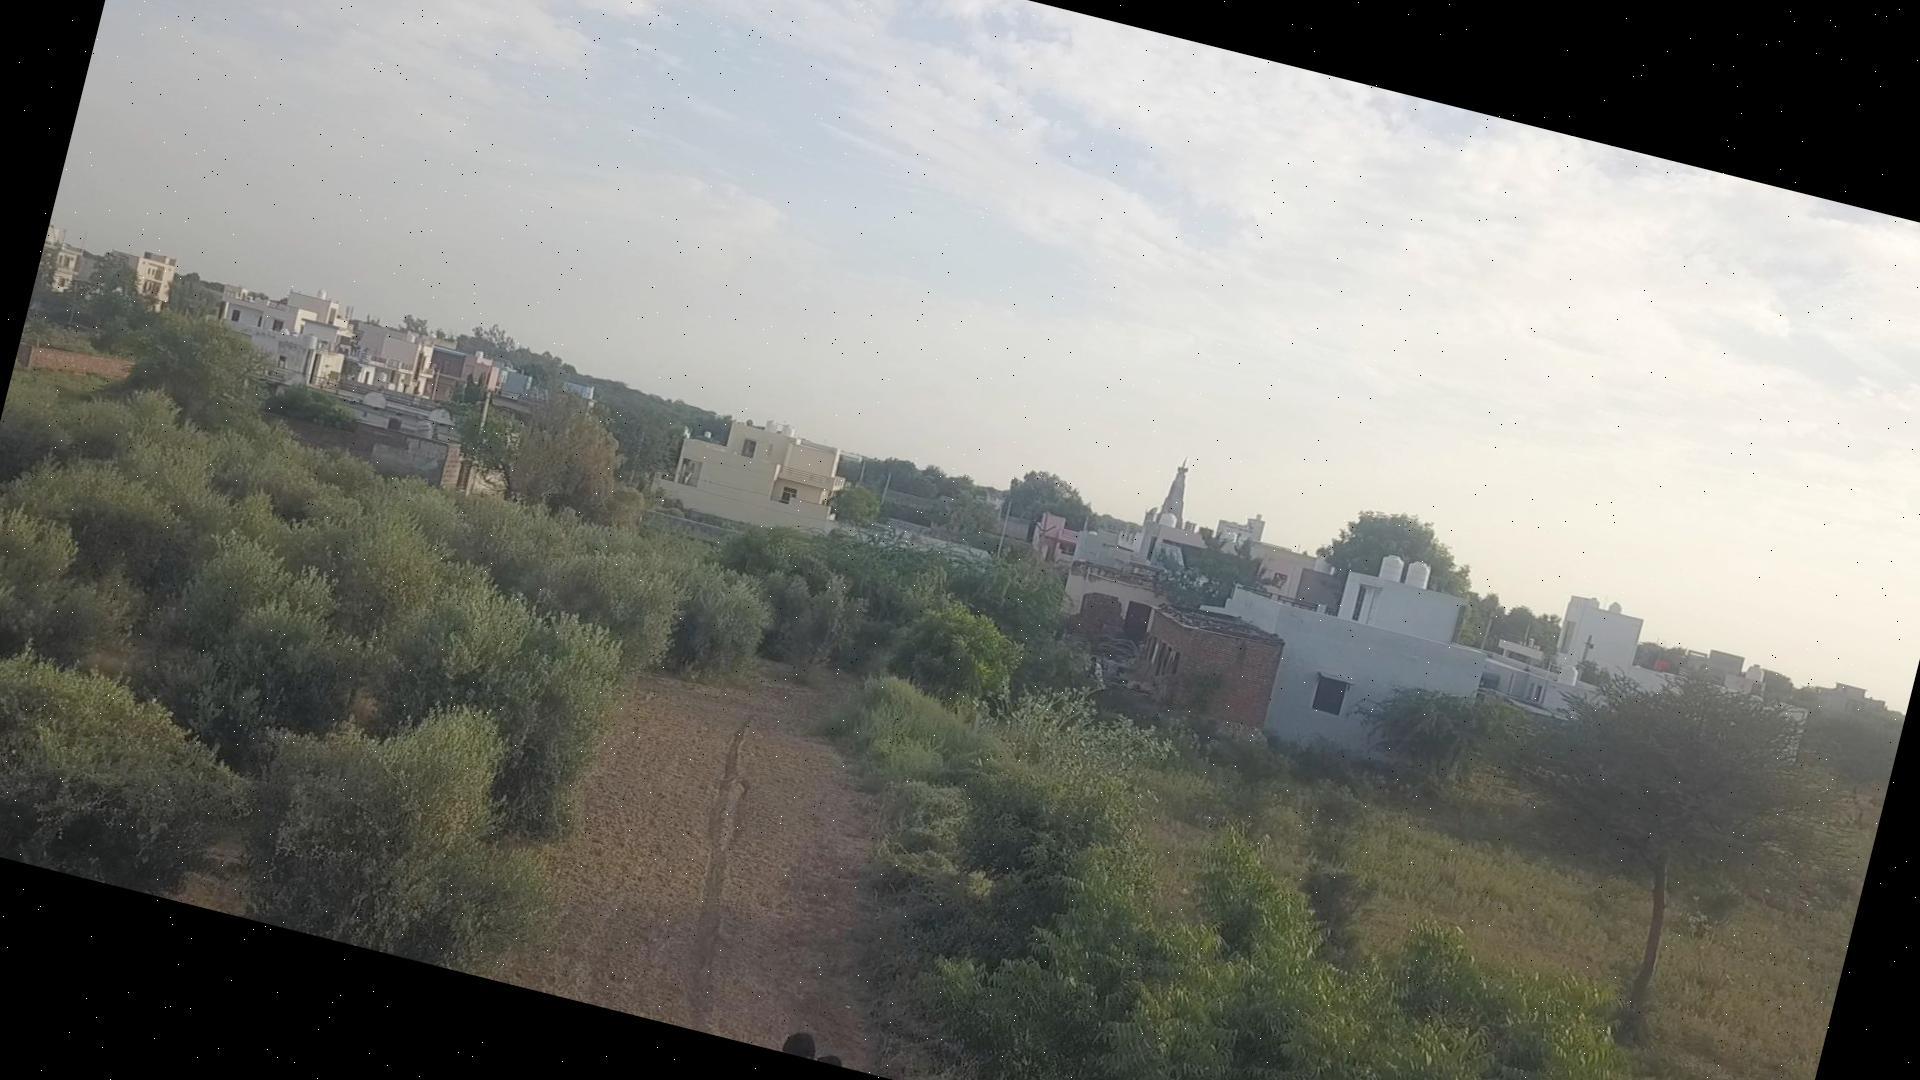canopy: (0, 378, 676, 968), (845, 604, 1619, 1080)
road: (493, 663, 882, 1072)
